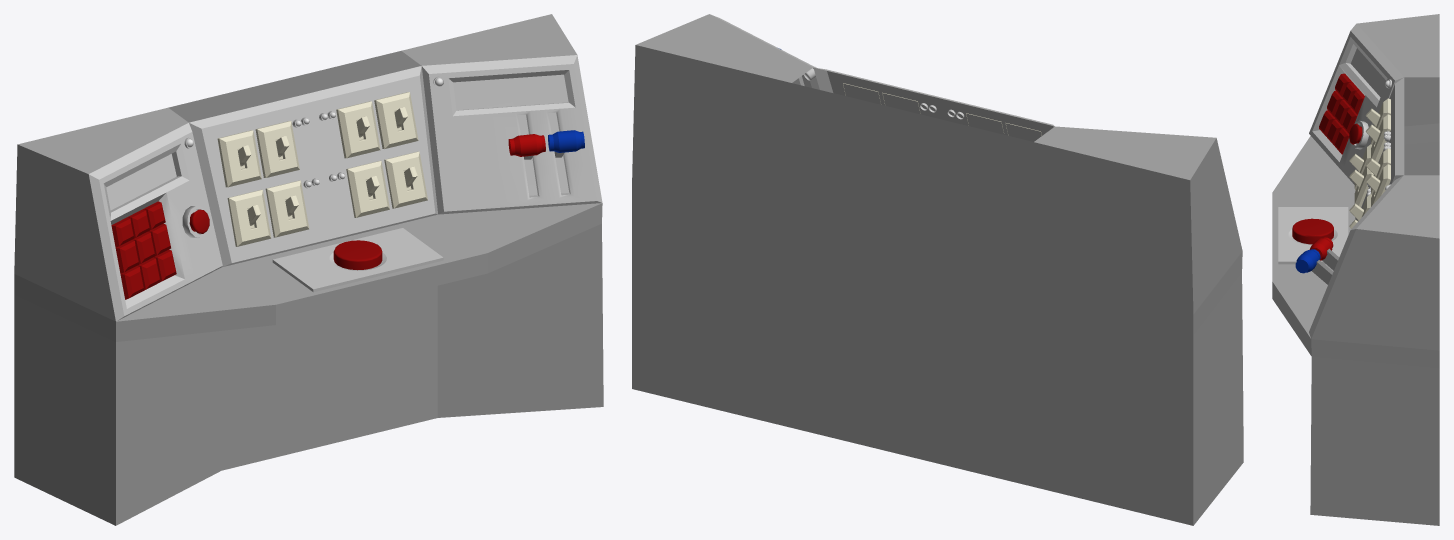
Rendered from SM_ModulesDesk.fbx.
The picture shows the model from 3 angles, left to right: view 1: azimuth 30°, elevation 25°; view 2: azimuth 150°, elevation 25°; view 3: azimuth 270°, elevation 25°; orthographic projection. The views are drawn at different scales.
Parts seen in each view (by area): view 1: Desk_geo, Panel_SimonSays_geo, Panel_SwitchMod_geo, SwitchFixtures_SwitchMod_geo, Panel_SequenceMod_geo, SM_EmergenceShutdownButtonBase, SM_EmergencyShutdownButton, BlueLever_SimonSays_geo, RedLever_SimonSays_geo; view 2: Desk_geo, Panel_SwitchMod_geo; view 3: Desk_geo, Panel_SequenceMod_geo, SM_EmergenceShutdownButtonBase, SwitchFixtures_SwitchMod_geo, Panel_SwitchMod_geo, Panel_SimonSays_geo, SM_EmergencyShutdownButton, BlueLever_SimonSays_geo, RedLever_SimonSays_geo, Button_7_SequenceMod_geo, Button_9_SequenceMod_geo, Button_4_SequenceMod_geo (+8 smaller).
Boxes of the visible parts, x1,y1,x2,y2 form: Desk_geo: (14, 14, 603, 525); Panel_SimonSays_geo: (421, 55, 602, 214); Panel_SwitchMod_geo: (189, 66, 438, 267); SwitchFixtures_SwitchMod_geo: (217, 92, 427, 246); Panel_SequenceMod_geo: (88, 123, 222, 321); SM_EmergenceShutdownButtonBase: (272, 228, 443, 292); SM_EmergencyShutdownButton: (333, 240, 382, 270); BlueLever_SimonSays_geo: (548, 130, 584, 157); RedLever_SimonSays_geo: (508, 134, 545, 159); Desk_geo: (632, 14, 1243, 525); Panel_SwitchMod_geo: (813, 67, 1054, 141); Desk_geo: (1272, 14, 1439, 525); Panel_SequenceMod_geo: (1309, 23, 1403, 184); SM_EmergenceShutdownButtonBase: (1278, 207, 1348, 264); SwitchFixtures_SwitchMod_geo: (1354, 98, 1390, 221); Panel_SwitchMod_geo: (1355, 77, 1404, 220); Panel_SimonSays_geo: (1309, 175, 1403, 338); SM_EmergencyShutdownButton: (1292, 218, 1333, 244); BlueLever_SimonSays_geo: (1295, 249, 1333, 284); RedLever_SimonSays_geo: (1309, 237, 1339, 270); Button_7_SequenceMod_geo: (1319, 110, 1335, 136); Button_9_SequenceMod_geo: (1334, 128, 1349, 154); Button_4_SequenceMod_geo: (1327, 90, 1343, 117).
Size of the model in its own units: 268 by 157 by 83.36.
